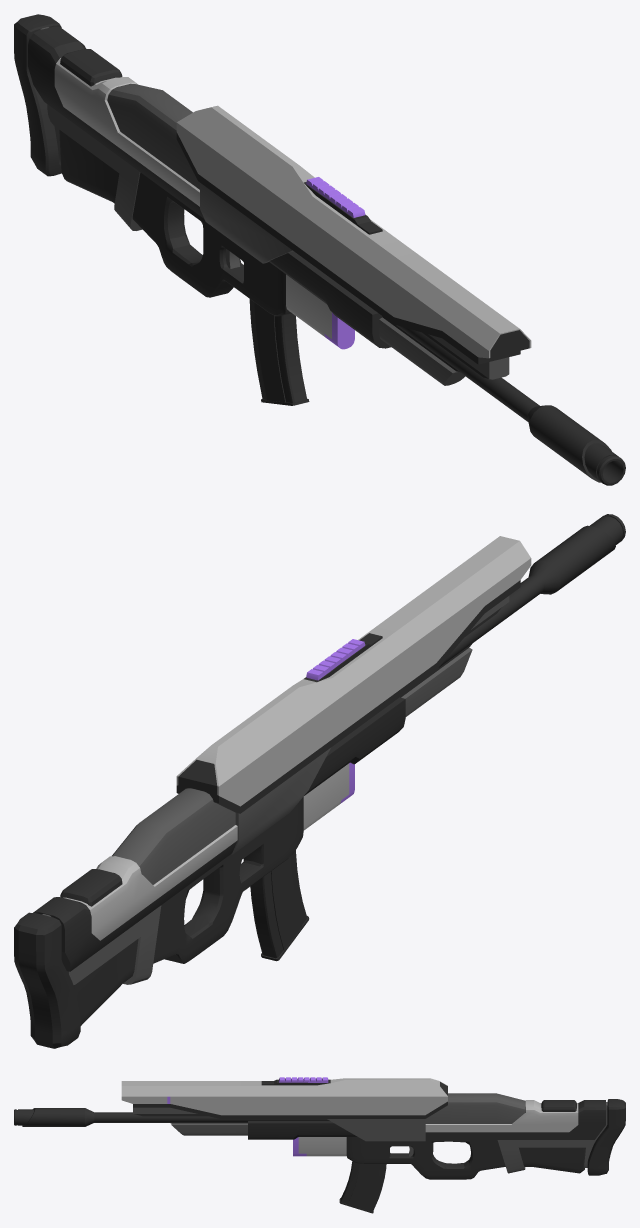
The model's file is singularity.glb.
3 views of the same model, one above another, from view 1: azimuth 30°, elevation 25°; view 2: azimuth 150°, elevation 25°; view 3: azimuth 270°, elevation 25° (orthographic). The views are drawn at different scales.
Visible parts, largest first — view 1: Cube.046, Cube.006; view 2: Cube.046, Cube.006; view 3: Cube.046, Cube.006.
Part boxes in pixels (box(x1,y1,x2,y2)): Cube.046: box(14, 14, 625, 485); Cube.006: box(249, 299, 309, 405); Cube.046: box(14, 514, 625, 1048); Cube.006: box(250, 850, 309, 961); Cube.046: box(14, 1077, 625, 1179); Cube.006: box(339, 1161, 386, 1213).
Bounding box in the file's own units: 0.0355 × 0.2031 × 0.85.
